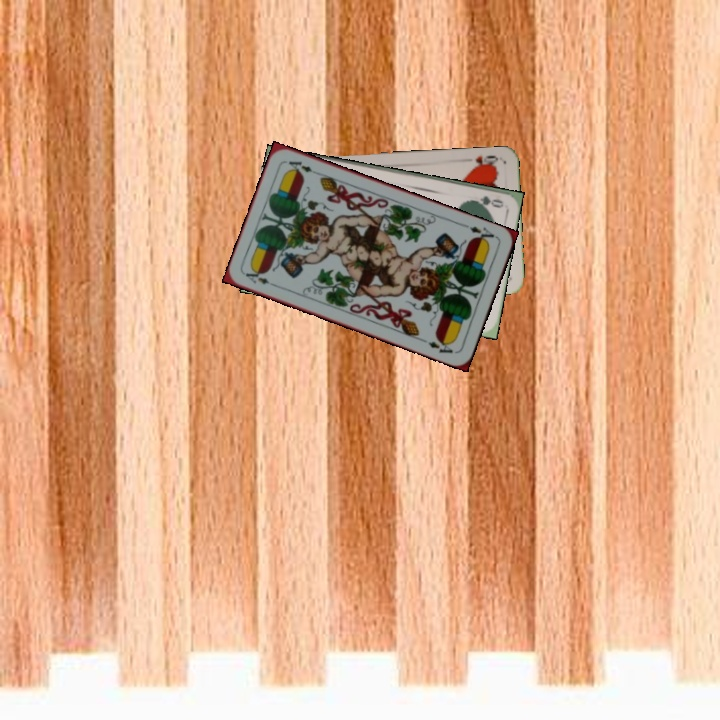EA: (460, 220, 499, 245), (241, 265, 280, 290)
GO: (464, 192, 505, 211)
HO: (467, 151, 500, 170)
